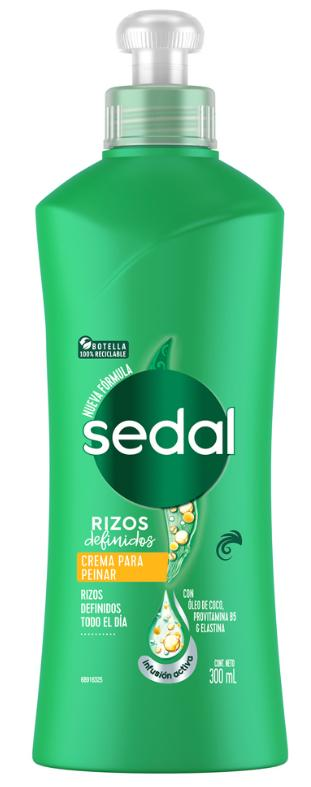brand: (84, 406, 252, 463)
extra_detail: (79, 510, 157, 550)
net_weight: (206, 667, 239, 686)
product_name: (75, 550, 153, 583)
